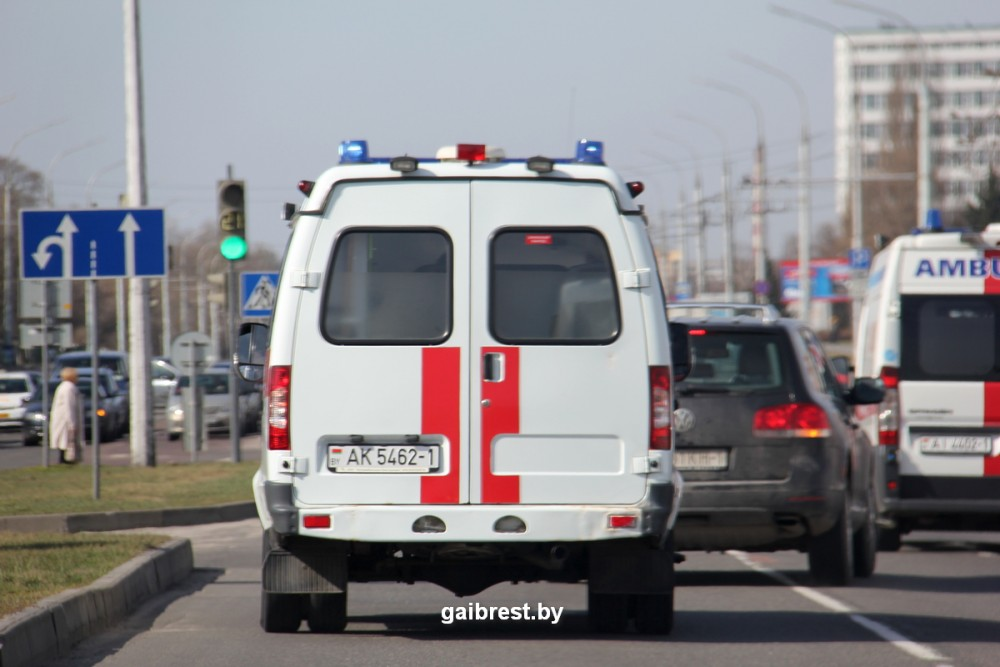special: (251, 132, 685, 634), (852, 212, 1000, 552)
